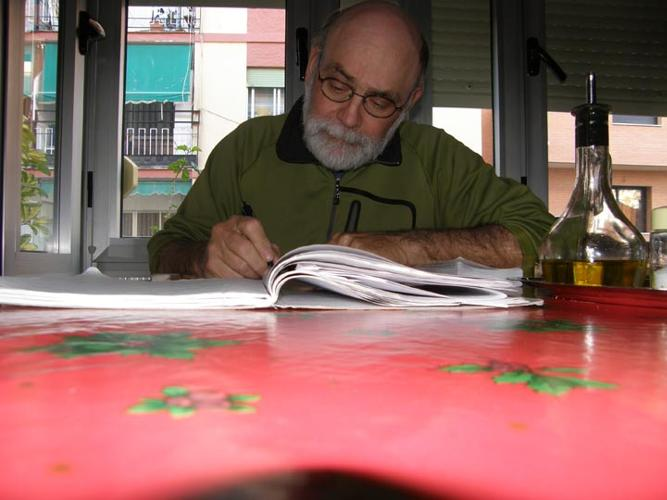person: (147, 3, 555, 281)
